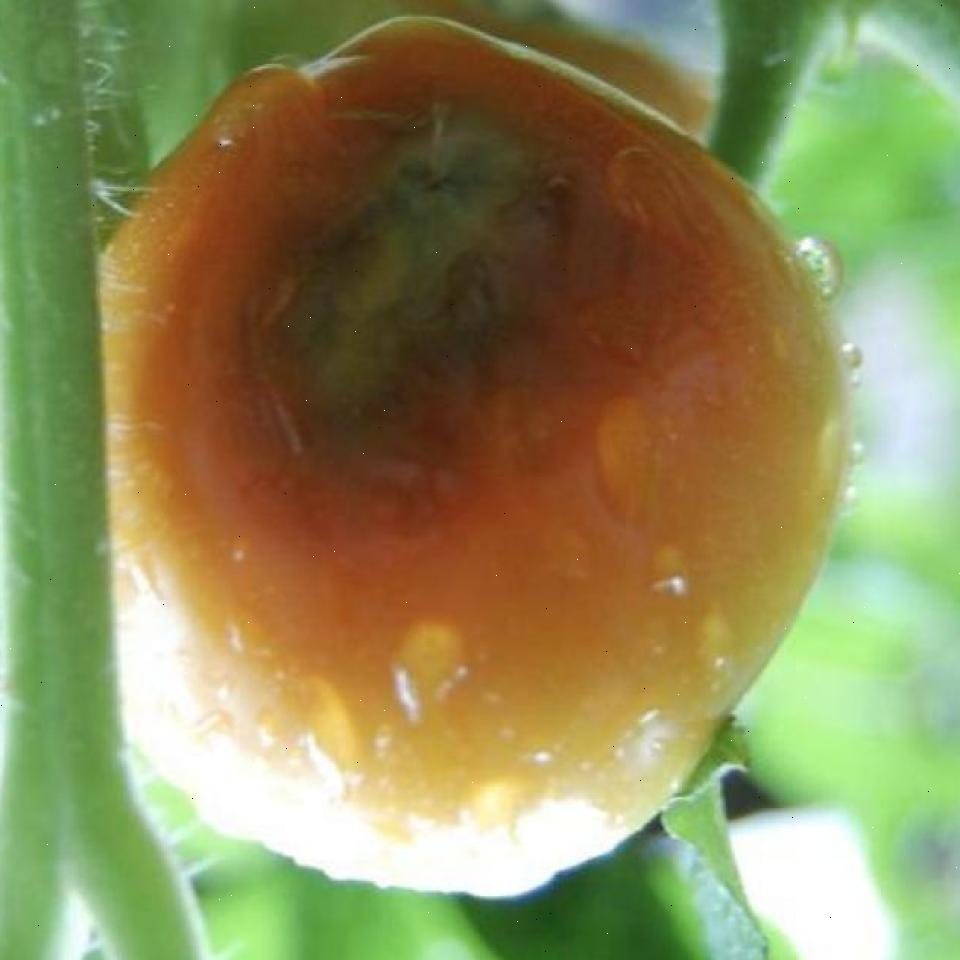Blossom_end_rot: (219, 97, 659, 536)
